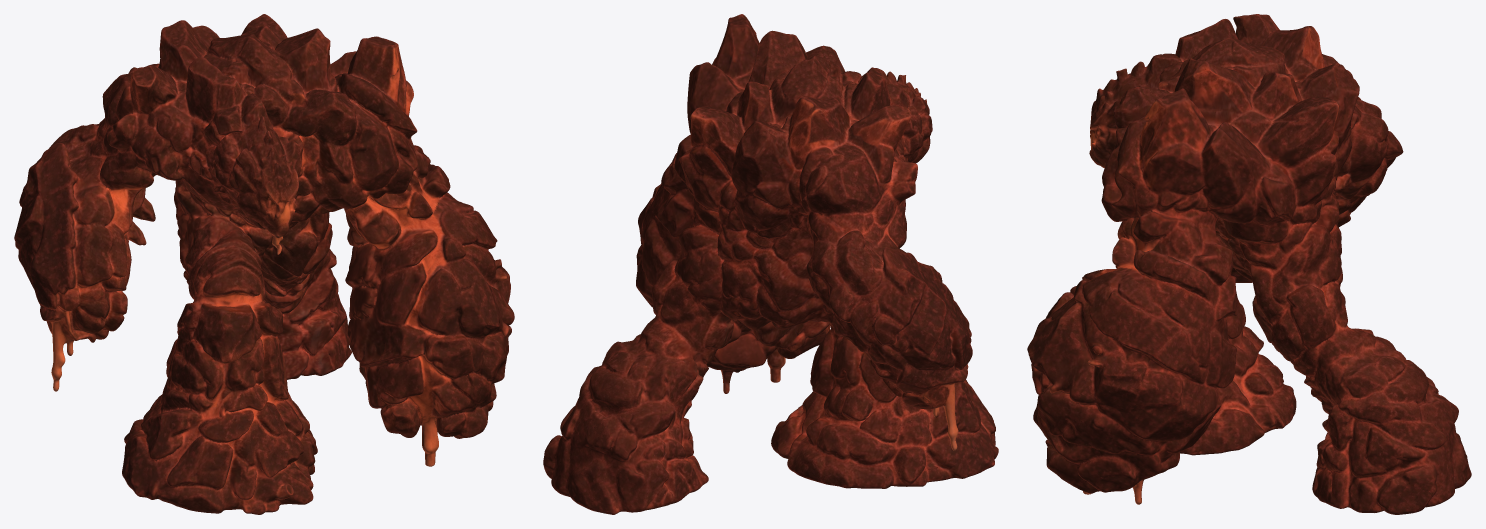
File: stone_colossus.glb
The picture shows the model from 3 angles, left to right: view 1: azimuth 30°, elevation 25°; view 2: azimuth 150°, elevation 25°; view 3: azimuth 270°, elevation 25°; orthographic projection.
Parts seen in each view (by area): view 1: mesh_node; view 2: mesh_node; view 3: mesh_node.
Part boxes in pixels (<box>): mesh_node: <box>14,14,514,514</box>; mesh_node: <box>543,14,998,514</box>; mesh_node: <box>1027,14,1471,514</box>.
Size of the model in its own units: 1.86 by 1.85 by 1.83.
Materials: 1 (1 with a texture image).
